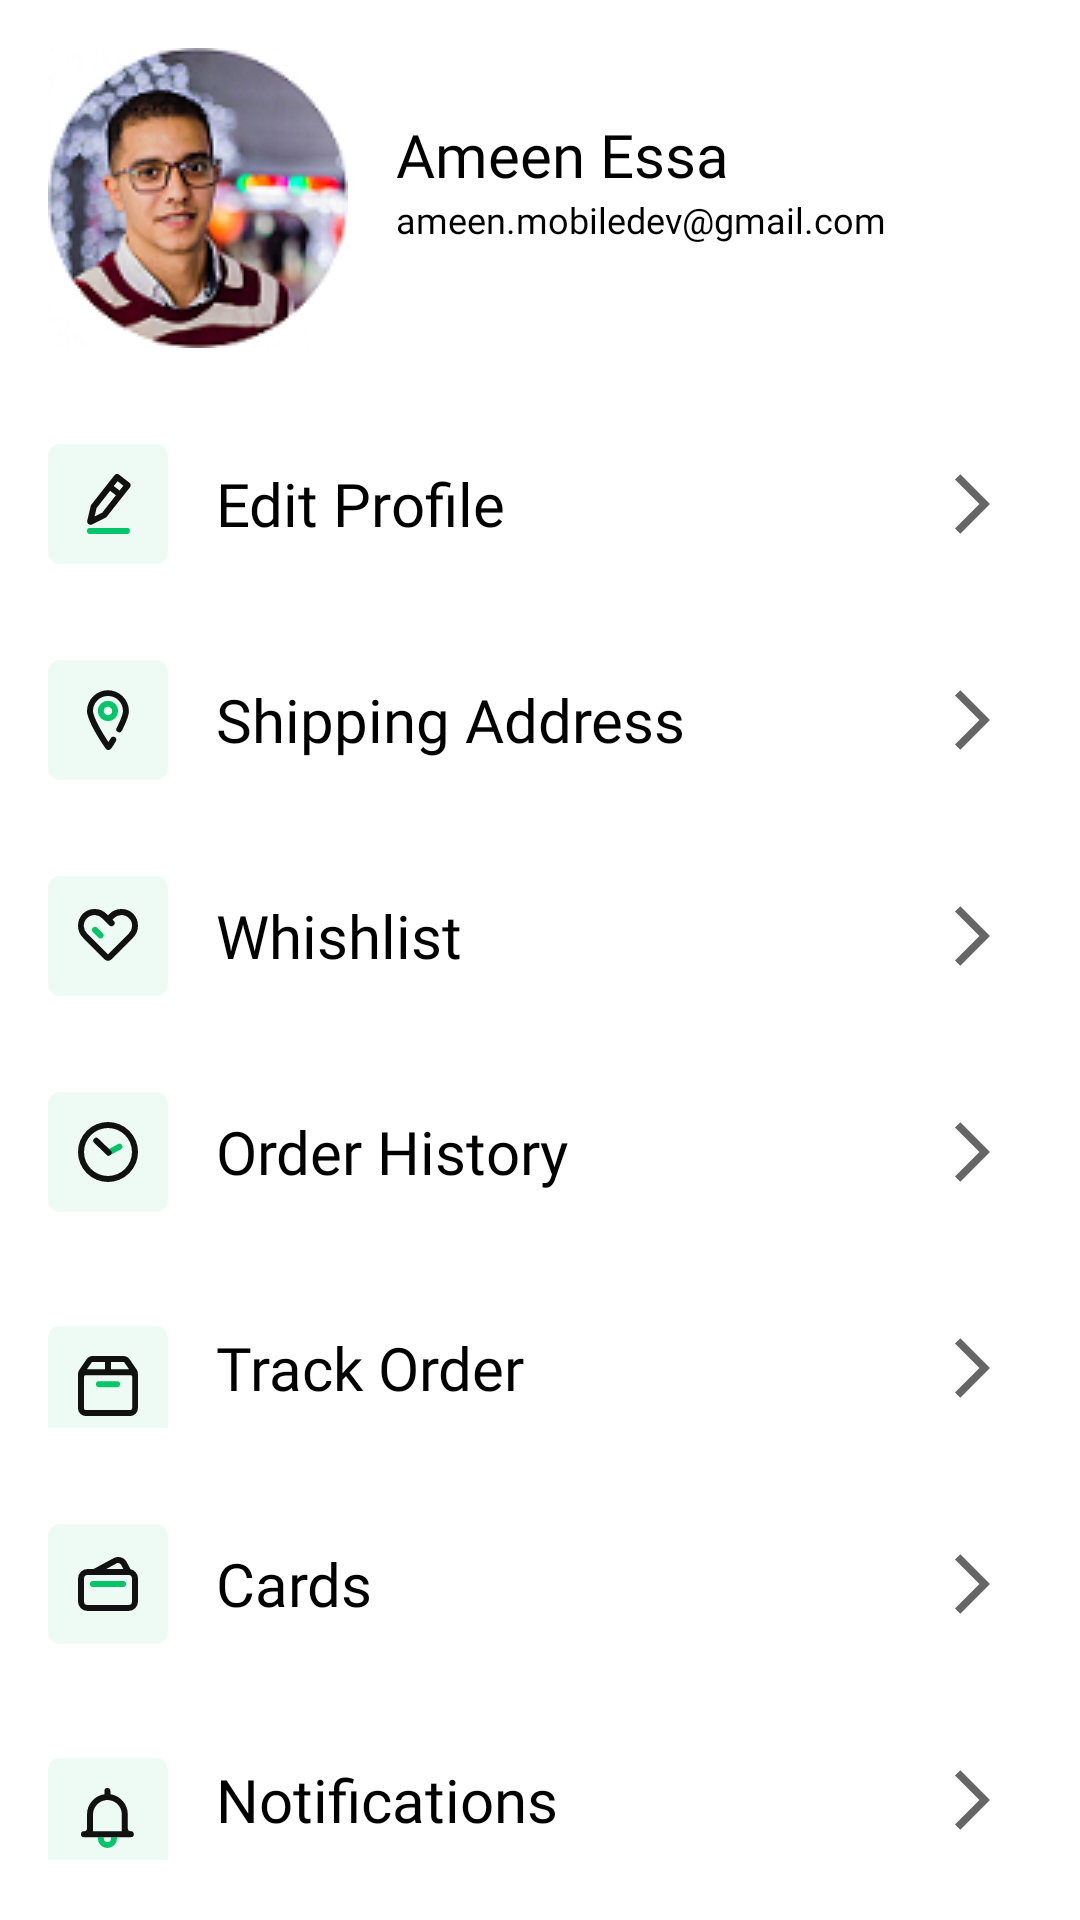

Point at icon controls on the screen. Image size 1080px x 1920px, points as (x,y).
account profile: (198,198)
location: (108,720)
payment: (108,1584)
wishlist: (108,936)
